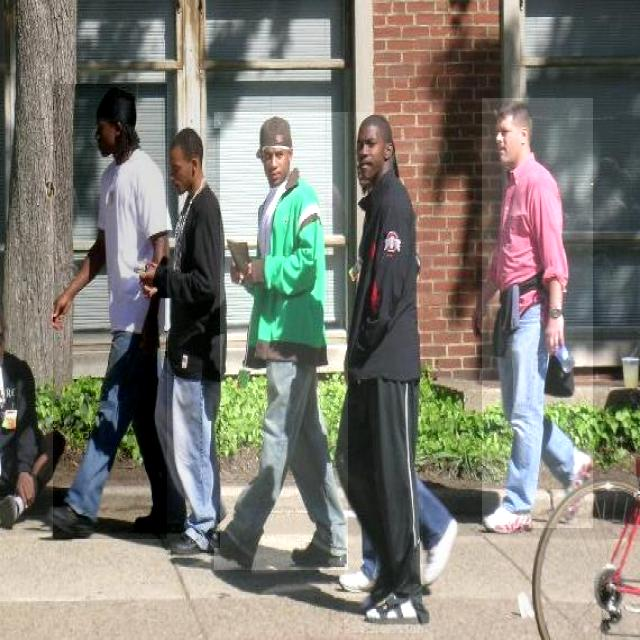with scooter: (214, 112, 348, 570), (54, 84, 168, 539), (482, 98, 593, 528), (344, 112, 423, 633), (161, 128, 220, 548)
